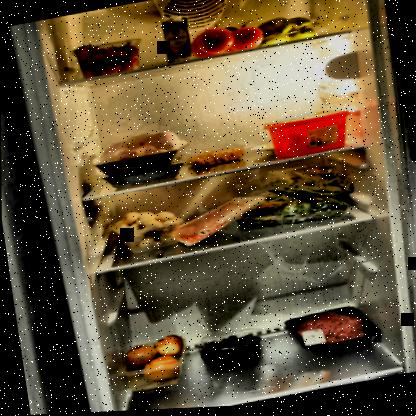banana: (252, 12, 325, 48)
blueberries: (195, 328, 261, 369)
butter: (260, 107, 360, 165)
chicken: (91, 123, 192, 178)
green_beans: (235, 158, 358, 216)
ground_beef: (282, 300, 378, 365)
heavy_cream: (161, 13, 193, 66)
mushrooms: (110, 204, 184, 255)
onion: (123, 335, 183, 389)
shrimp: (187, 145, 248, 170)
spinach: (234, 180, 353, 240)
strawberries: (73, 31, 151, 80)
tomato: (187, 16, 268, 63)
